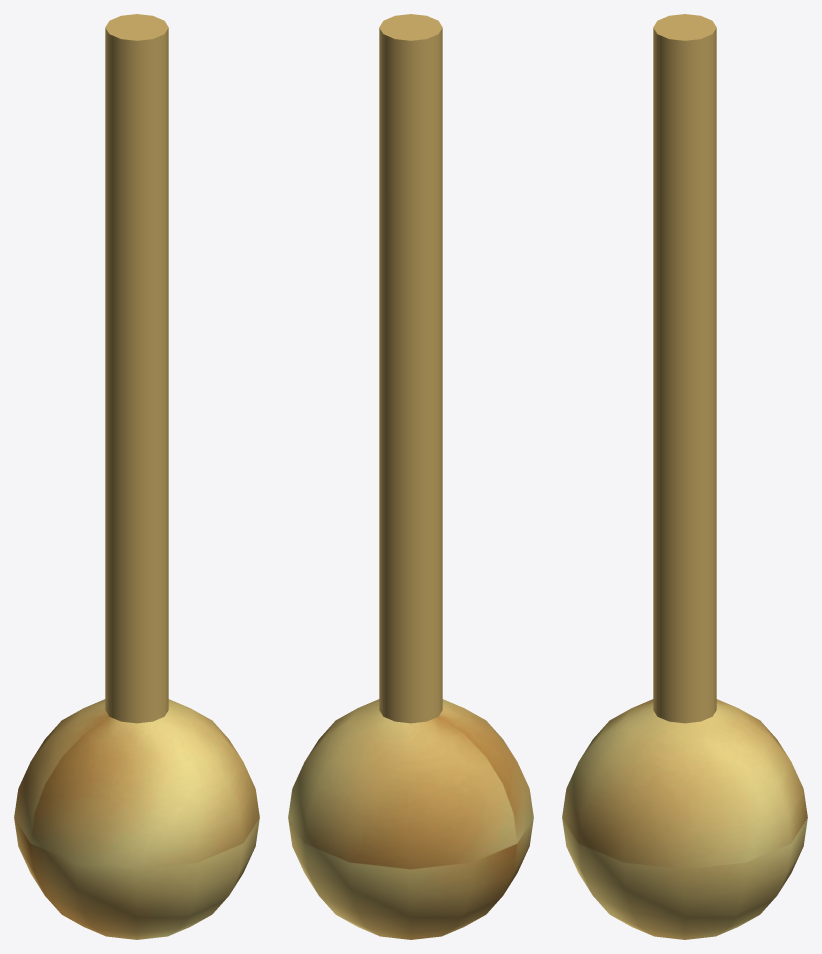
File: bad.obj
The picture shows the model from 3 angles, left to right: view 1: azimuth 30°, elevation 25°; view 2: azimuth 150°, elevation 25°; view 3: azimuth 270°, elevation 25°; orthographic projection.
Parts seen in each view (by area): view 1: Clapper_Sphere.001; view 2: Clapper_Sphere.001; view 3: Clapper_Sphere.001.
Part boxes in pixels (x1=…): Clapper_Sphere.001: x1=14, y1=14, x2=259, y2=939; Clapper_Sphere.001: x1=288, y1=14, x2=533, y2=939; Clapper_Sphere.001: x1=562, y1=14, x2=807, y2=939.
Size of the model in its own units: 0.0941 by 0.3809 by 0.0941.
Materials: 1 (1 with a texture image).
